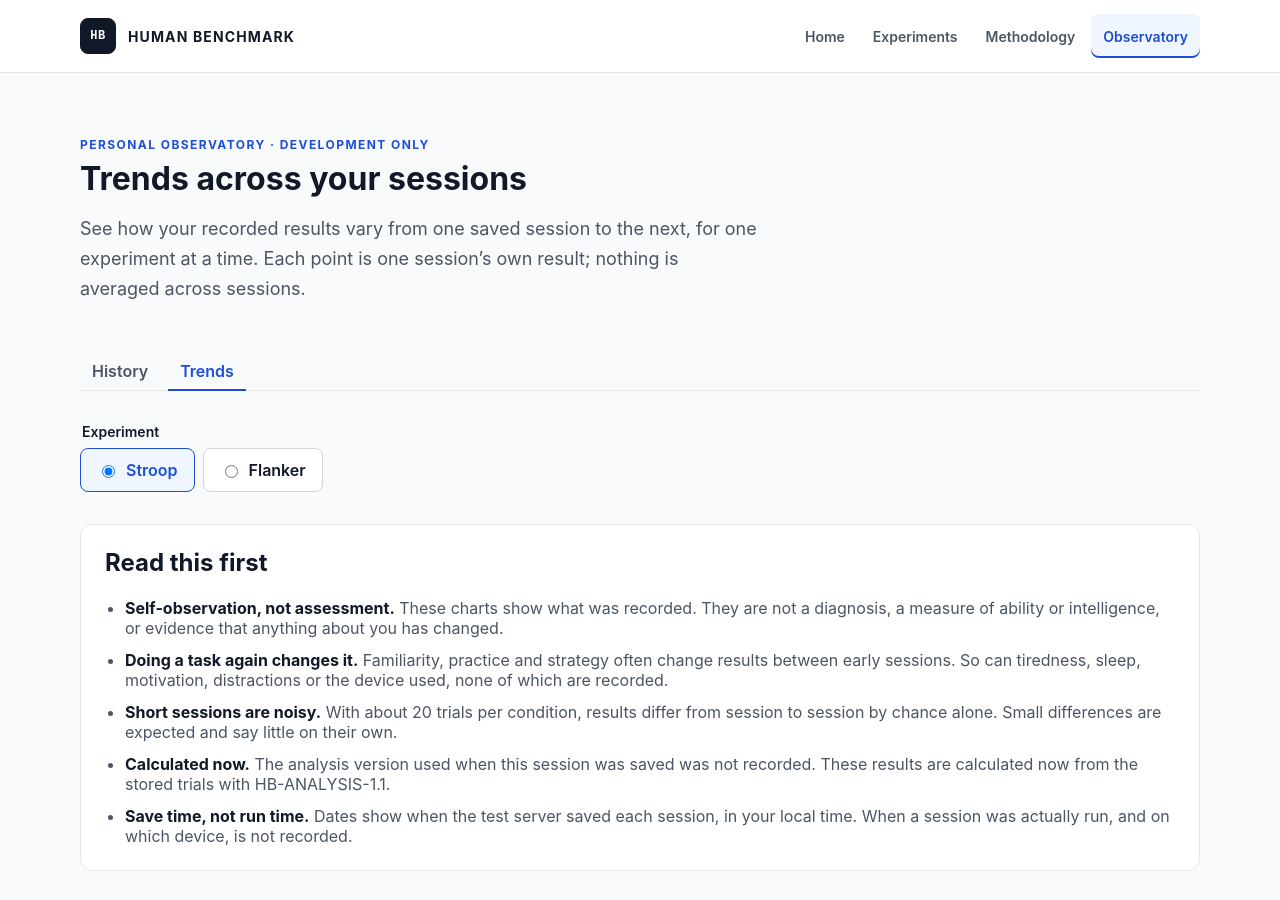
Trends: comparability › never mixes experiments and switches with the URL
The width and height of the screenshot is (1280, 900).
Click the radio button labelled "Flanker": (231, 472) [224,466,238,478]
(page scrolled)
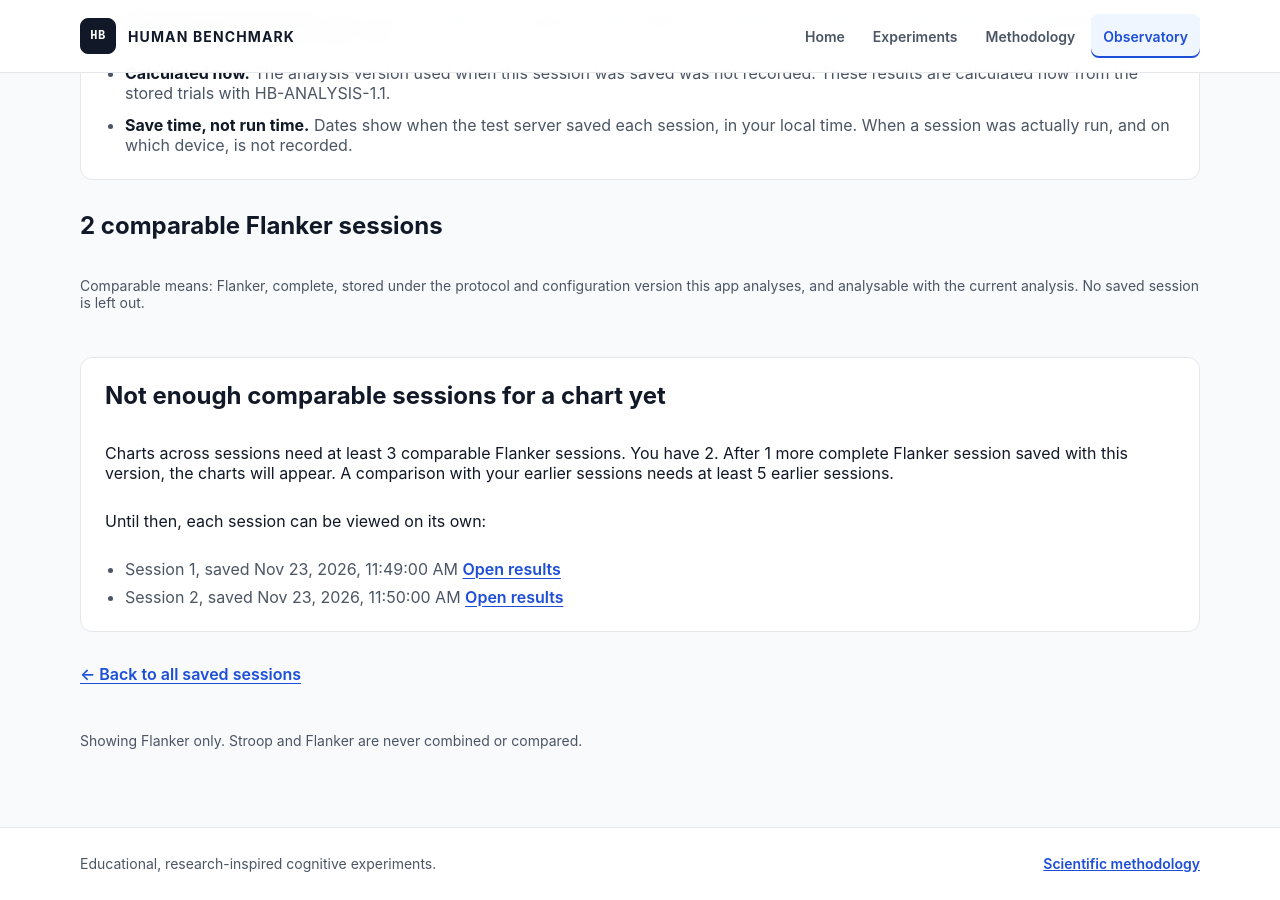
Expected: the text "Stroop and Flanker are never combined or compared" is shown, [190,732,582,749]
Now the heading "2 comparable Flanker sessions" is shown, box [80,211,443,240]
